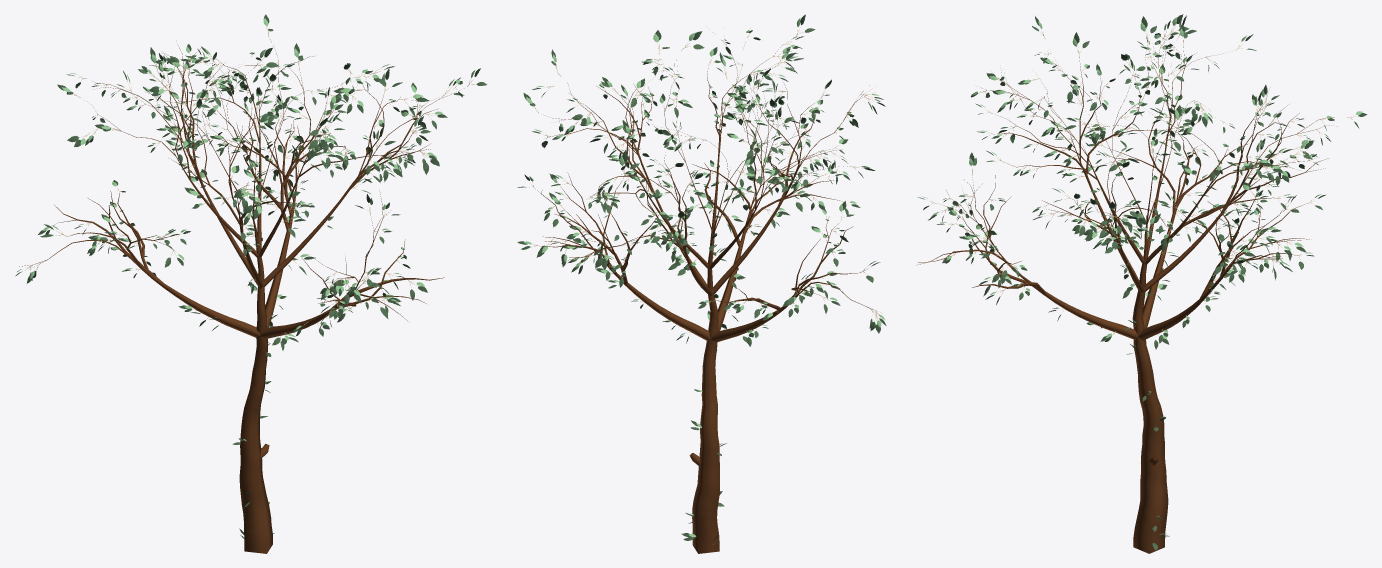
File: Tree35.fbx
The picture shows the model from 3 angles, left to right: view 1: azimuth 30°, elevation 25°; view 2: azimuth 150°, elevation 25°; view 3: azimuth 270°, elevation 25°; orthographic projection. The views are drawn at different scales.
Visible parts, largest first — view 1: Árbol.002; view 2: Árbol.002; view 3: Árbol.002.
Boxes of the visible parts, x1,y1,x2,y2 form: Árbol.002: (19, 39, 464, 553); Árbol.002: (537, 28, 879, 553); Árbol.002: (916, 37, 1336, 553).
Size of the model in its own units: 1501 by 1847 by 1482.
